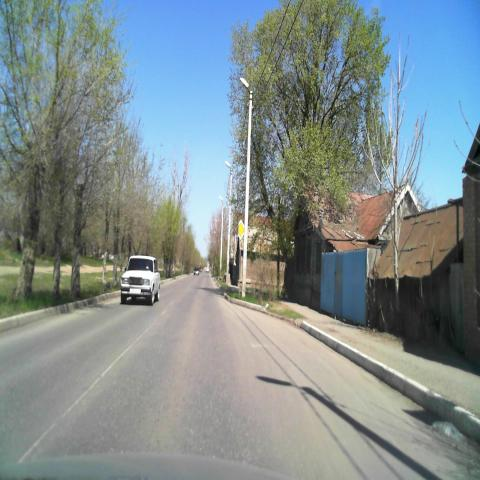2_1: (235, 220, 246, 240)
